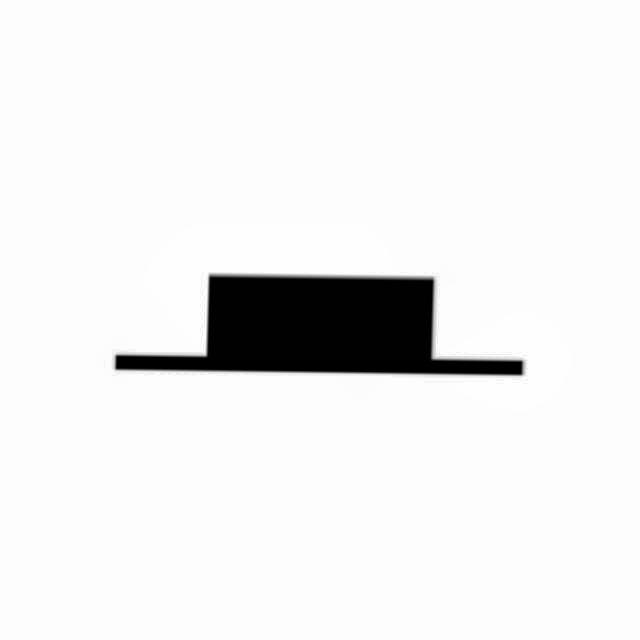Half-rest: (77, 246, 559, 418)
